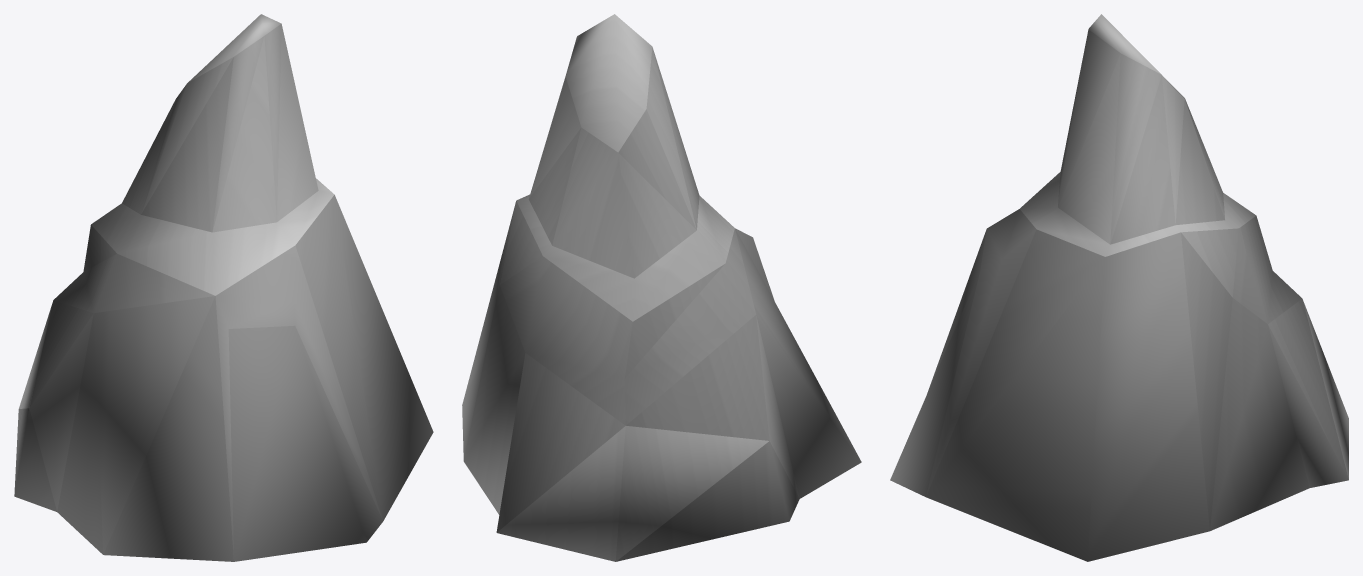
Rendered from GL-Rock-02.fbx.
The picture shows the model from 3 angles, left to right: view 1: azimuth 30°, elevation 25°; view 2: azimuth 150°, elevation 25°; view 3: azimuth 270°, elevation 25°; orthographic projection. The views are drawn at different scales.
Visible parts, largest first — view 1: GL-Rock-02; view 2: GL-Rock-02; view 3: GL-Rock-02.
Boxes of the visible parts, bbox=[...] form: GL-Rock-02: bbox=[14, 14, 433, 561]; GL-Rock-02: bbox=[462, 14, 861, 561]; GL-Rock-02: bbox=[890, 14, 1348, 561].
Size of the model in its own units: 3.17 by 3.61 by 3.23.
